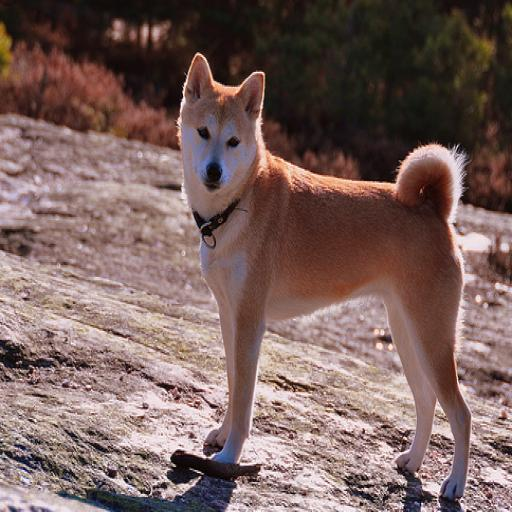dog_face: (182, 64, 264, 195)
